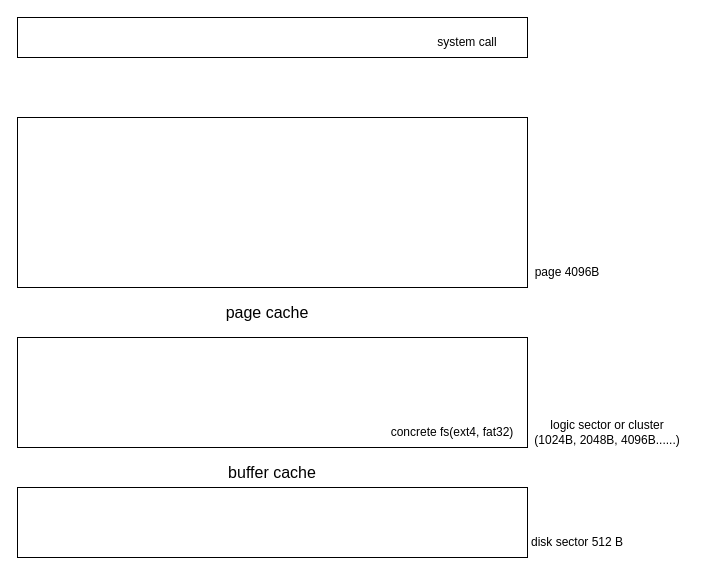
Some shapes in this 705 by 575 pixel diagram are drawn without their labels. Each missing label, with the centre of its shape:
"disk drive" goes at (x=272, y=522).
"vfs" goes at (x=272, y=202).
